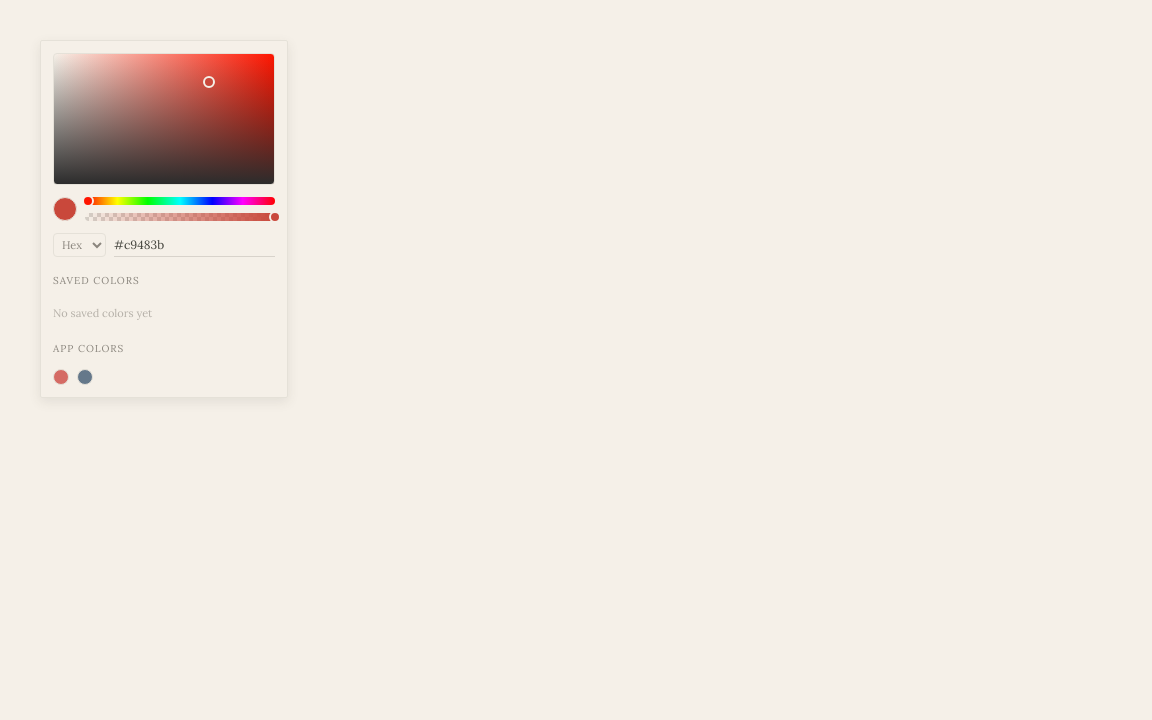
Test case: ColorPickerPopover › ignores an unparseable typed value
The image size is (1152, 720).
Step 1. Replace the text in the field named "Color value" with "chartreuse" → (194, 245), box [114,233,275,257]
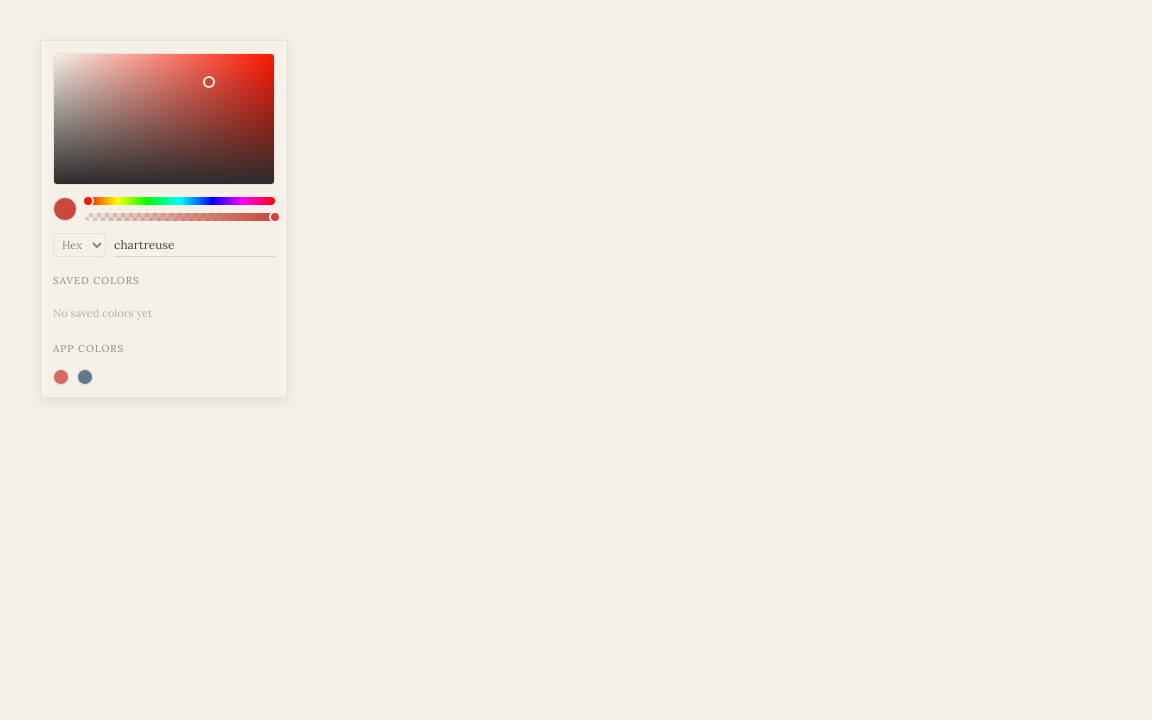
Step 2. Press Enter in the field named "Color value", box [114,233,275,257]
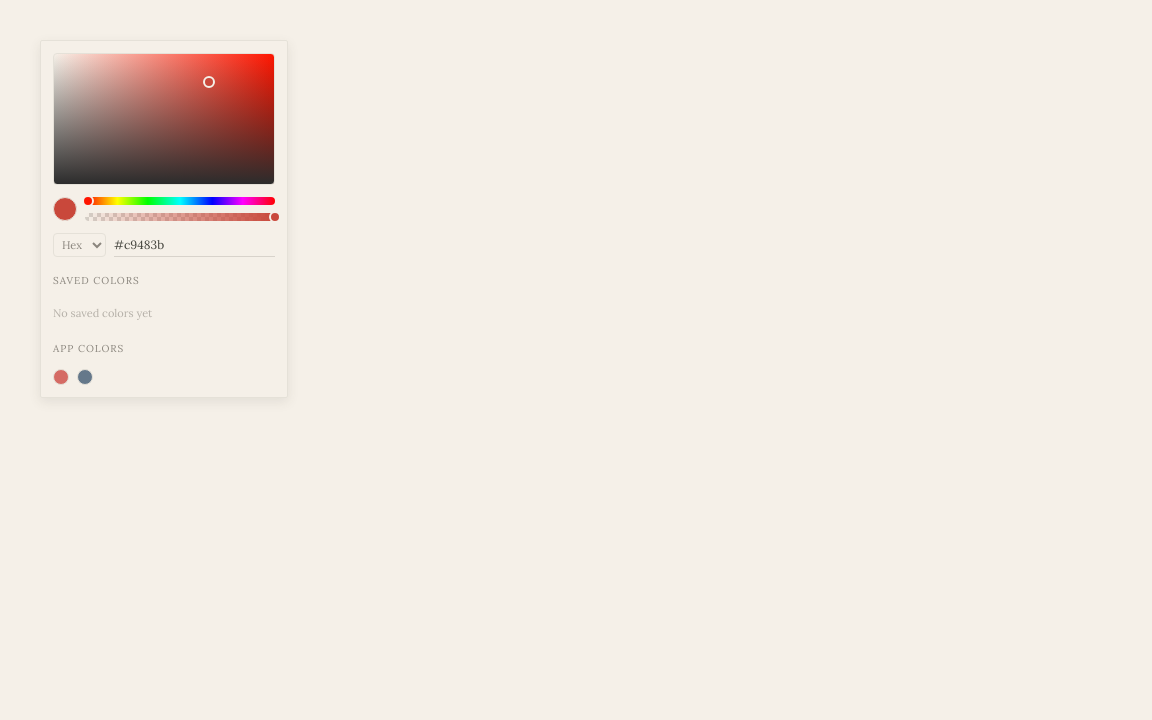
Expected: the field named "Color value" holds "#c9483b", [114,233,275,257]
